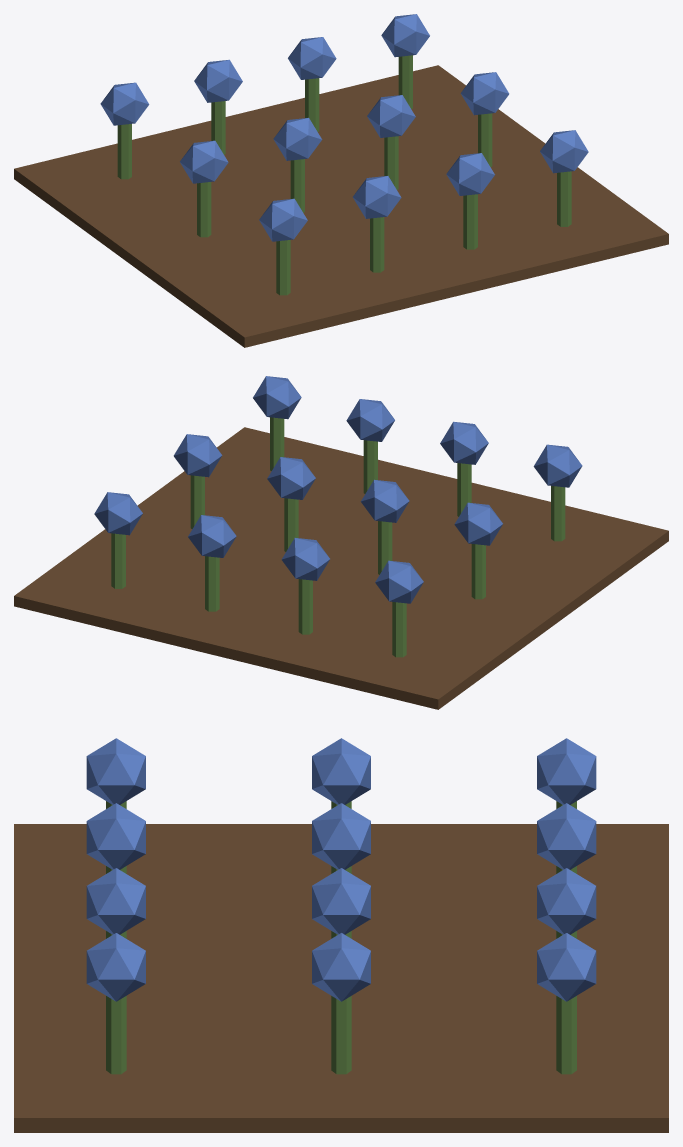
The model's file is flax-field.glb.
3 renders of one model, top to bottom at view 1: azimuth 30°, elevation 25°; view 2: azimuth 150°, elevation 25°; view 3: azimuth 270°, elevation 25°, orthographic. The views are drawn at different scales.
Visible parts, largest first — view 1: flax_field; view 2: flax_field; view 3: flax_field.
Boxes of the visible parts, box(x1,y1,x2,y2) form: flax_field: box(14, 14, 668, 347); flax_field: box(14, 376, 668, 709); flax_field: box(14, 738, 668, 1132).
Size of the model in its own units: 0.34 by 0.0781 by 0.32.
